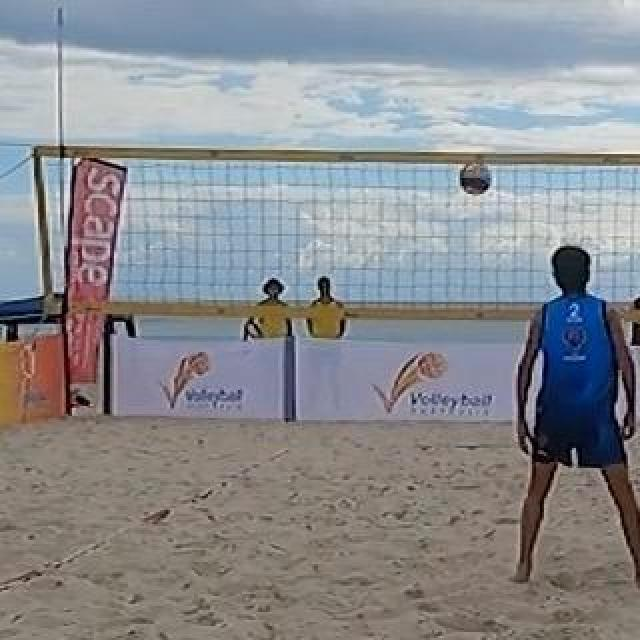volleyball: (462, 161, 492, 193)
